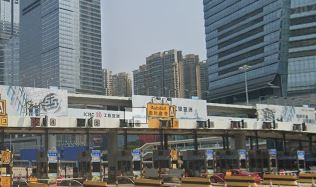Autotoll: (145, 101, 176, 119)
